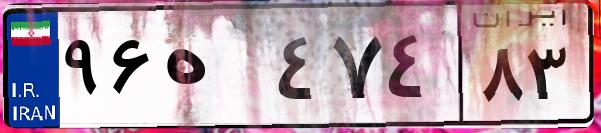3: (525, 38, 570, 115)
4: (270, 28, 330, 110), (385, 28, 445, 110)
6: (110, 28, 158, 98)
7: (330, 28, 385, 110)
8: (475, 38, 525, 113)
9: (57, 26, 110, 100)
ه: (158, 20, 270, 120)
